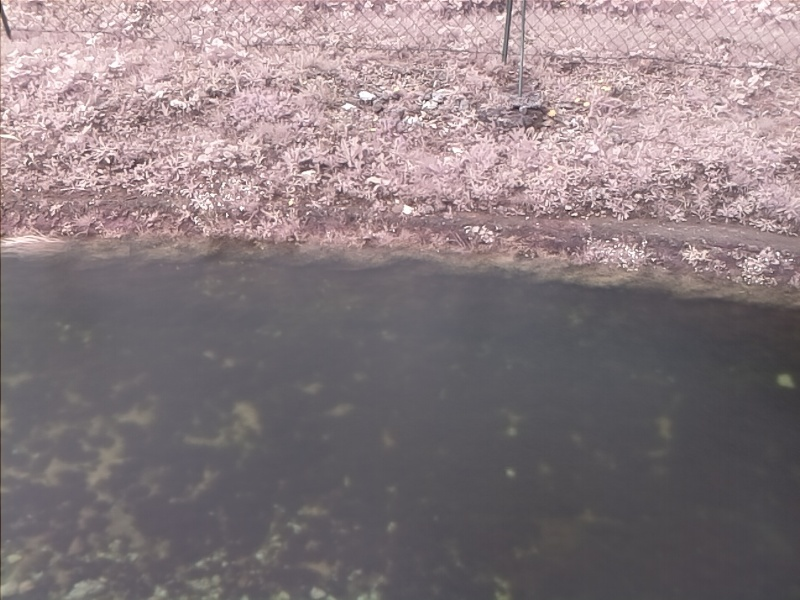Water: (1, 237, 797, 600)
